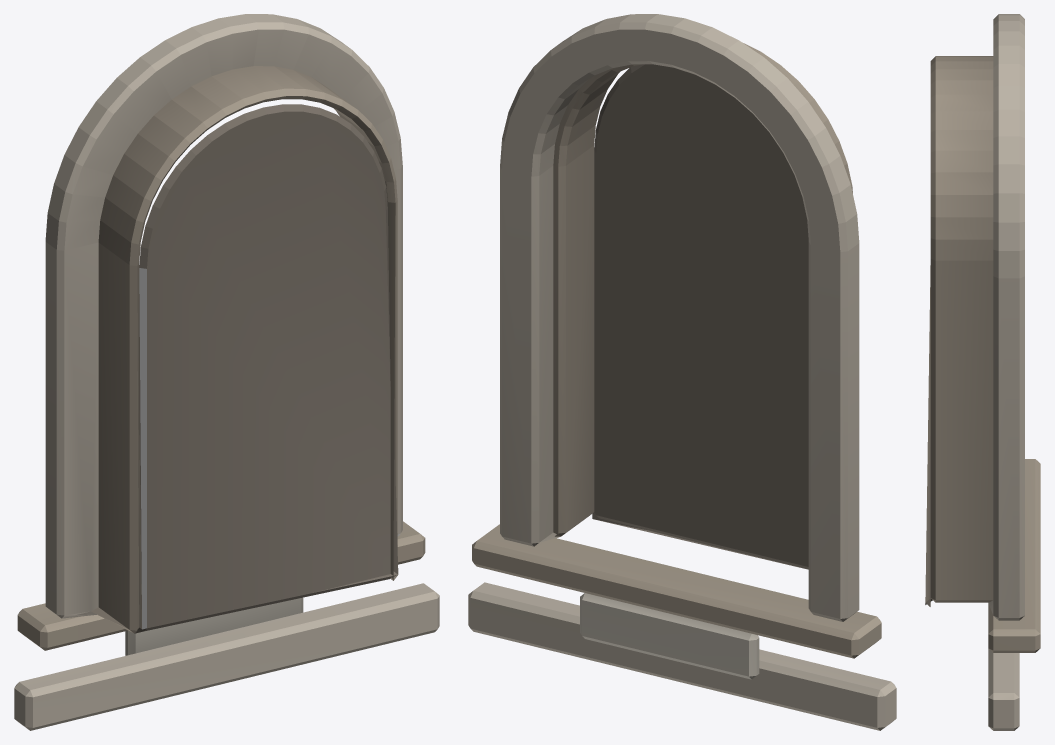
File: niche_hero.glb
The picture shows the model from 3 angles, left to right: view 1: azimuth 30°, elevation 25°; view 2: azimuth 150°, elevation 25°; view 3: azimuth 270°, elevation 25°; orthographic projection. The views are drawn at different scales.
Size of the model in its own units: 0.85 by 1.28 by 0.22.
